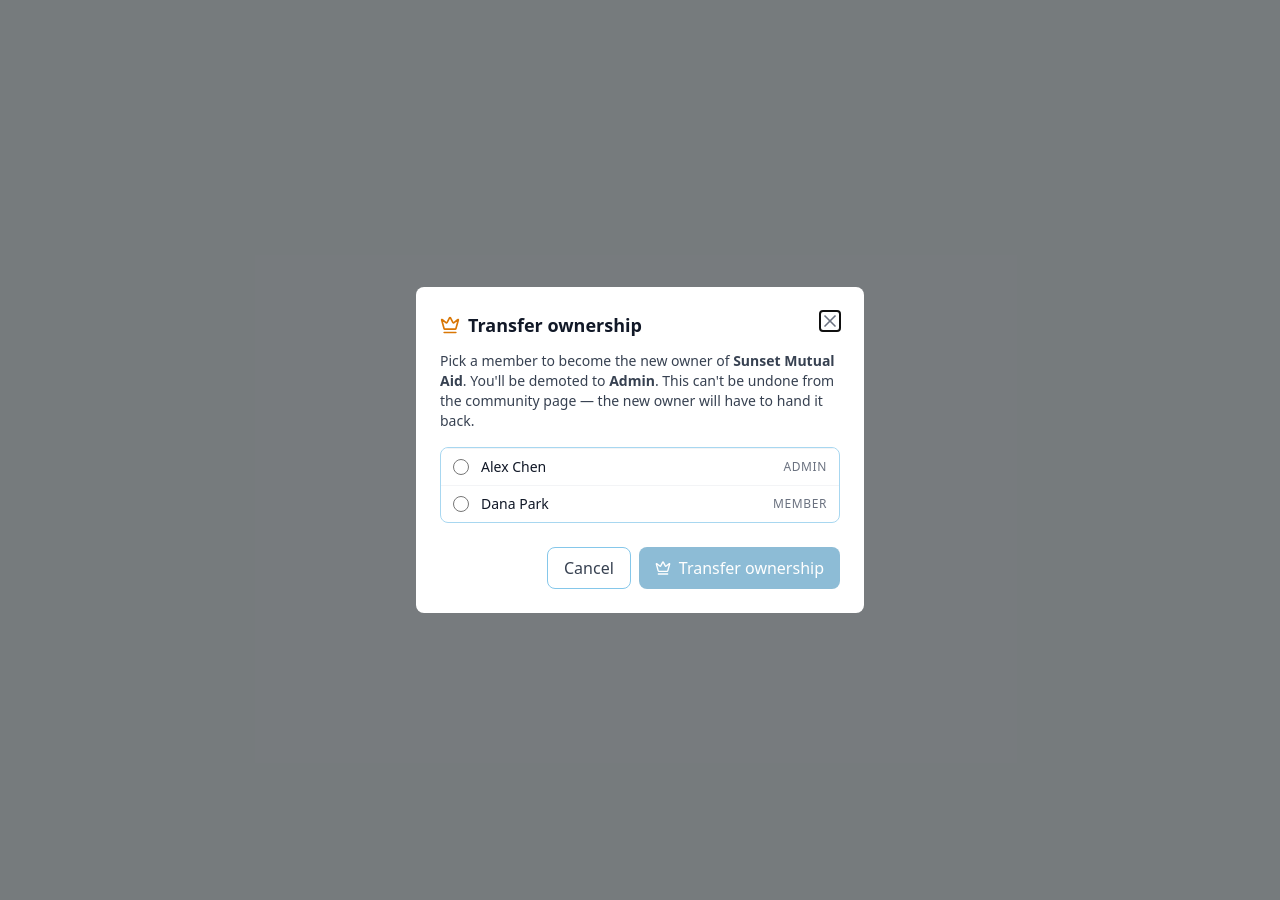
Test: TransferOwnershipDialog › disables submit until a candidate is selected
This screenshot has width=1280, height=900.
Expected: the button "Transfer ownership" is disabled, [639,547,840,589]
What coordinates should you click on to do the following:
click the radio button labelled "Alex Chen ADMIN"
I would click on:
 (461, 467)
Its box is [453,459,469,475].
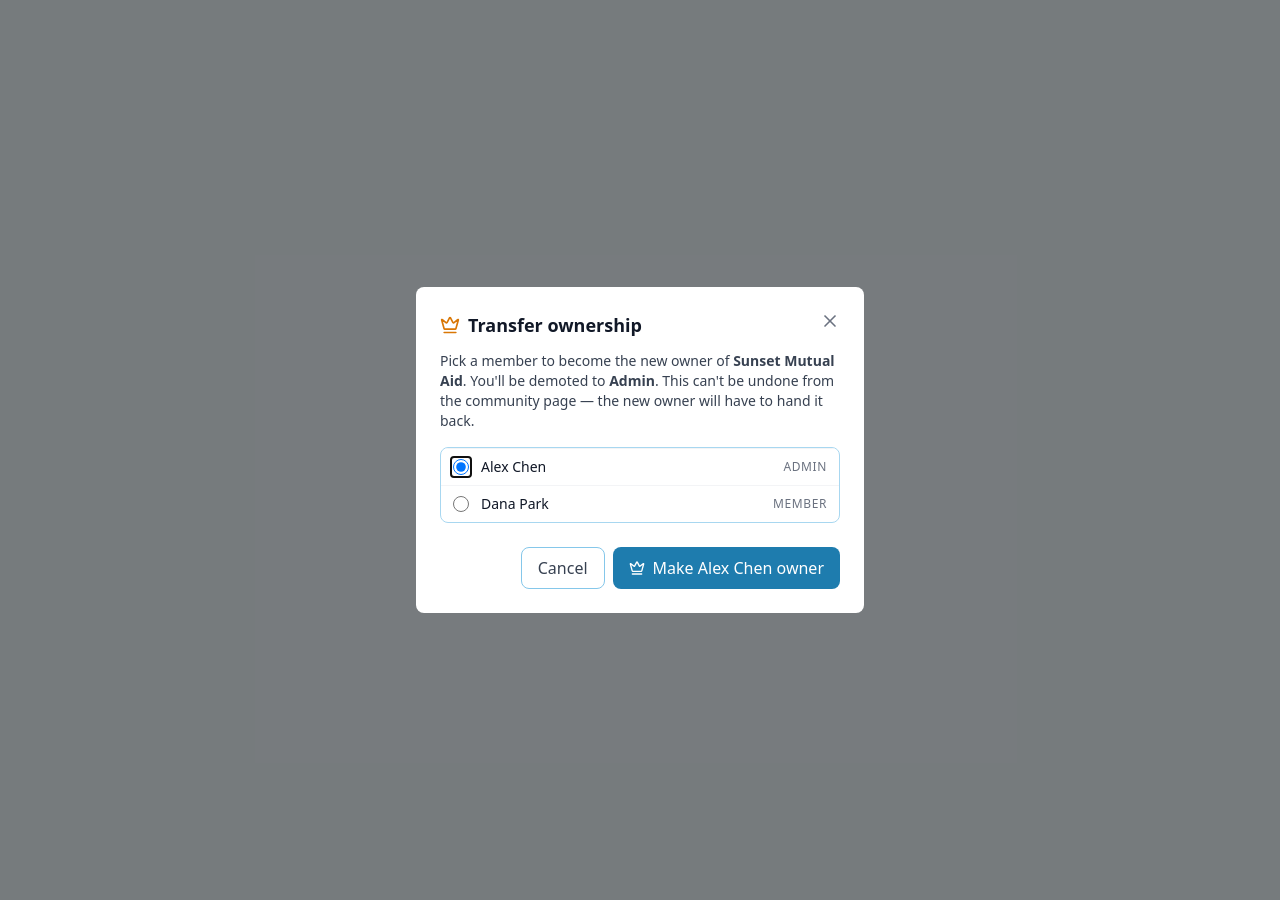
Now the button "Make Alex Chen owner" is enabled, box [613,547,840,589]
